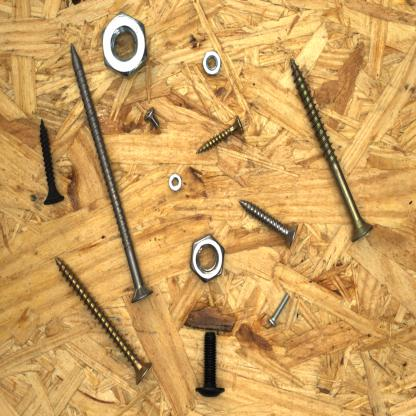screw: (68, 40, 156, 308), (289, 56, 375, 244), (53, 254, 155, 387), (236, 198, 300, 252), (37, 117, 67, 210), (194, 328, 226, 400), (194, 116, 246, 156), (267, 290, 292, 328)
